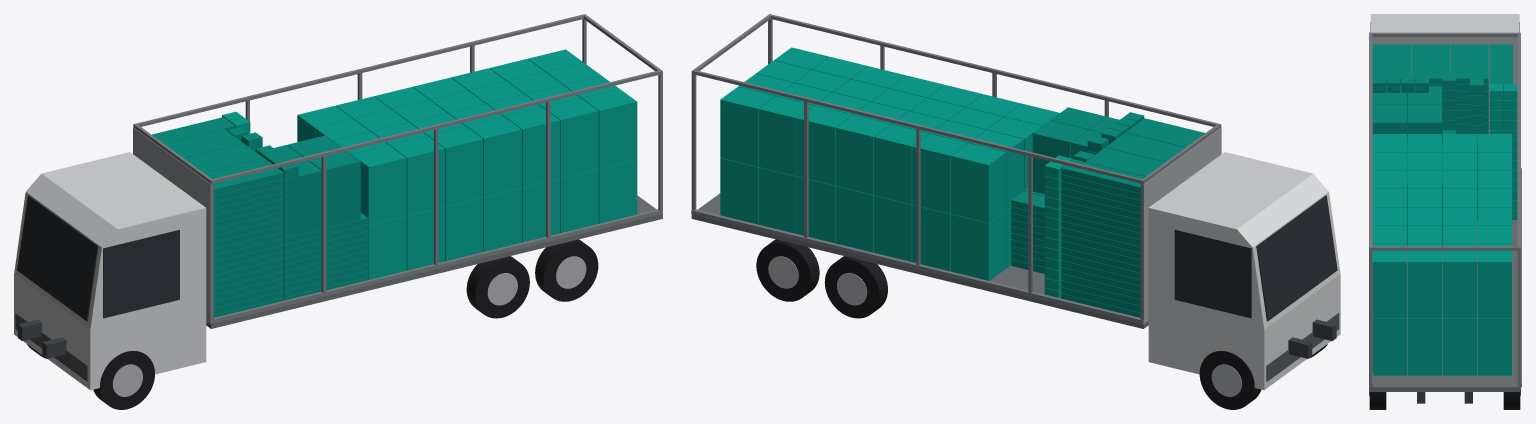
The model's file is truck-FD04.glb.
3 renders of one model, left to right at view 1: azimuth 30°, elevation 25°; view 2: azimuth 150°, elevation 25°; view 3: azimuth 270°, elevation 25°, orthographic. The views are drawn at different scales.
Visible parts, largest first — view 1: cabine, part23, janela, part165, part213, part189, part205, part181, frente, part15, piso, part173 (+51 smaller); view 2: cabine, part23, janela, part168, piso, part164, part17, part216, part192, part184, part208, frente (+60 smaller); view 3: piso, cabine, part213, part214, part215, part216, part210, part211, part212, part209, frente, part96 (+55 smaller).
Boxes of the visible parts, x1,y1,x2,y2 form: cabine: (14, 152, 206, 390); part23: (17, 195, 98, 321); janela: (103, 229, 179, 318); part165: (351, 145, 406, 224); part213: (581, 89, 637, 168); part189: (466, 117, 521, 196); part205: (543, 98, 598, 178); part181: (428, 126, 483, 206); frente: (133, 127, 211, 323); part15: (211, 209, 662, 323); piso: (206, 195, 662, 328); part173: (389, 135, 444, 215); cabine: (1148, 152, 1340, 390); part23: (1256, 195, 1337, 321); janela: (1174, 229, 1251, 318); part168: (951, 143, 1006, 222); piso: (691, 193, 1148, 328); part164: (951, 211, 1006, 280); part17: (691, 209, 1143, 324); part216: (720, 87, 775, 166); part192: (835, 115, 890, 194); part184: (874, 124, 929, 204); part208: (758, 96, 813, 176); frente: (1143, 127, 1221, 323); piso: (1369, 172, 1520, 391); cabine: (1370, 14, 1519, 32); part213: (1372, 244, 1406, 318); part214: (1407, 244, 1441, 318); part215: (1442, 244, 1476, 318); part216: (1477, 244, 1511, 318); part210: (1407, 318, 1441, 375); part211: (1442, 318, 1476, 375); part212: (1477, 318, 1511, 375); part209: (1372, 318, 1406, 375); frente: (1372, 37, 1517, 171); part96: (1450, 44, 1488, 84).
Bounding box in the file's own units: 11.24 × 3.78 × 2.58.
